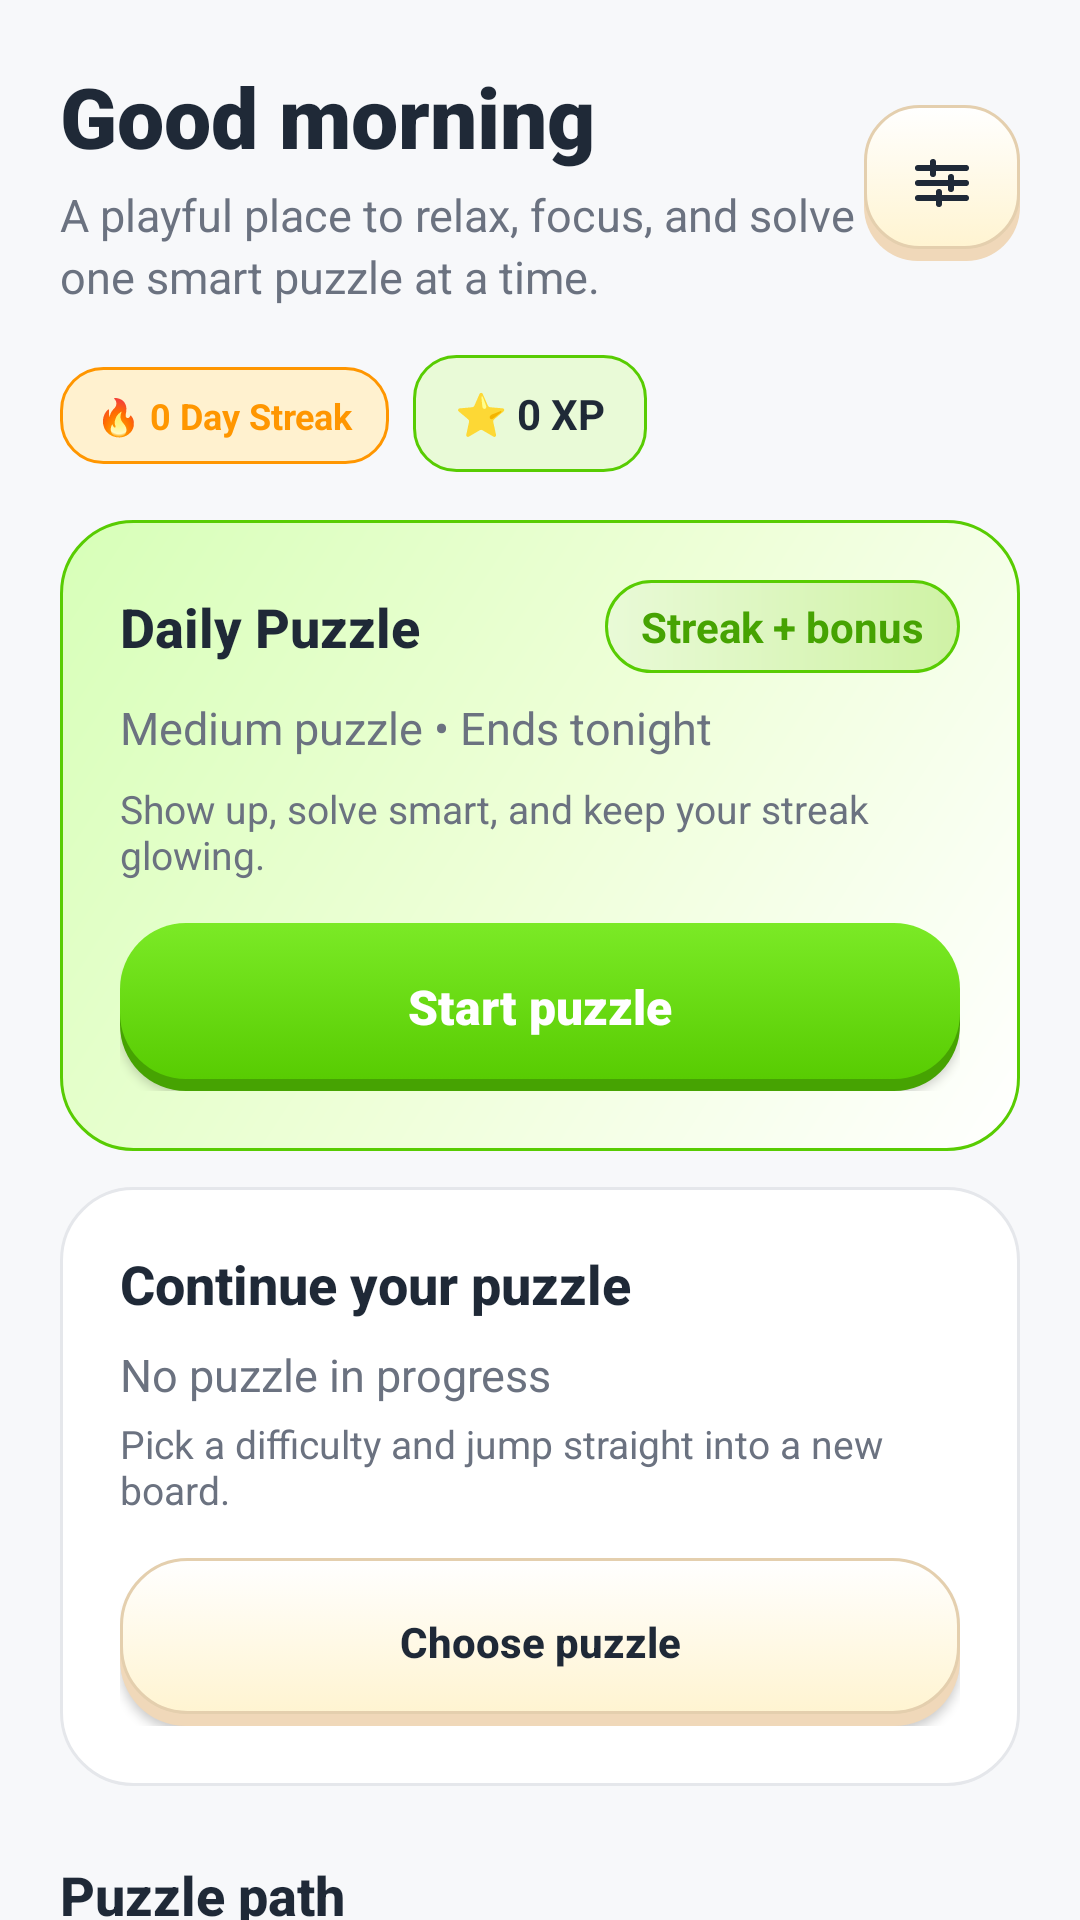

Point at icon controls on the screen. Image size 1080x1920, points as (x,y).
Settings: (942,183)
